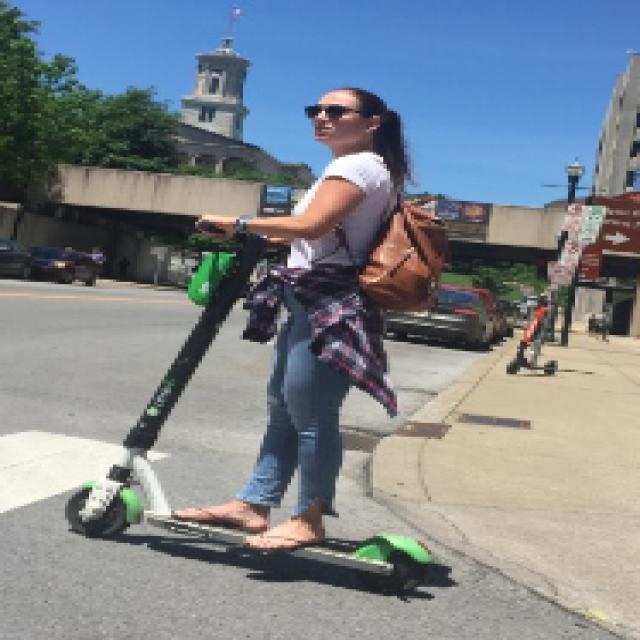non-helmet: (54, 77, 510, 612)
